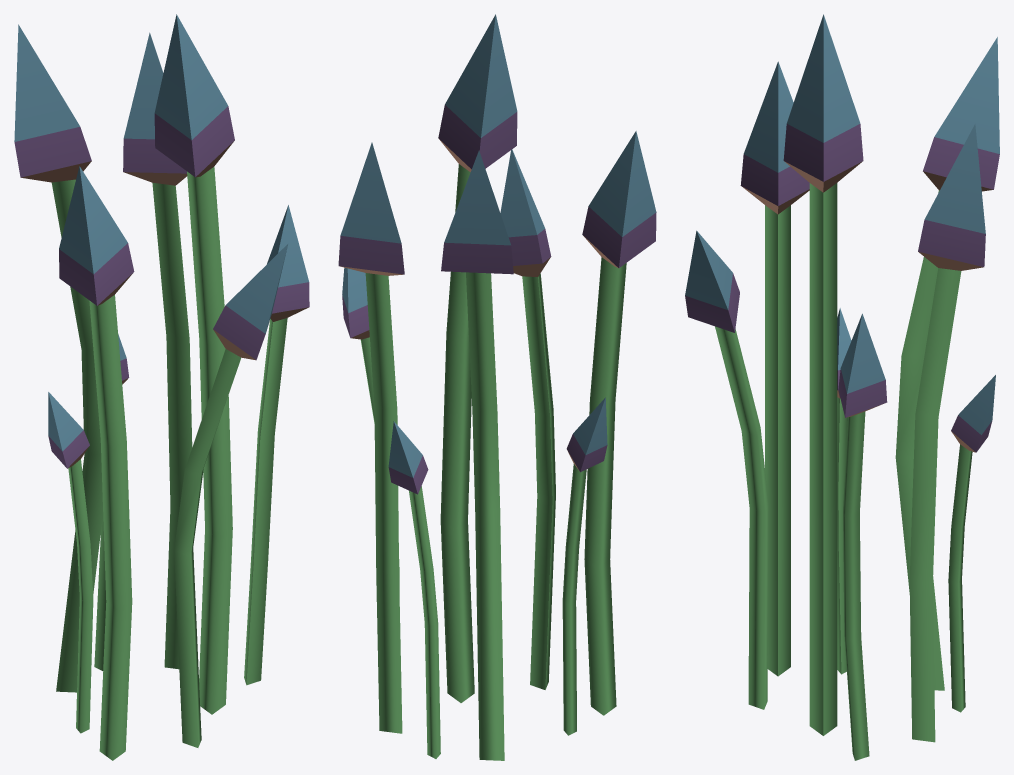
Rendered from Flowers_1.fbx.
3 renders of one model, left to right at view 1: azimuth 30°, elevation 25°; view 2: azimuth 150°, elevation 25°; view 3: azimuth 270°, elevation 25°, orthographic.
Parts seen in each view (by area): view 1: Flowers_1; view 2: Flowers_1; view 3: Flowers_1.
Part boxes in pixels (box(x1,y1,x2,y2)): Flowers_1: box(14, 14, 309, 760); Flowers_1: box(338, 14, 656, 760); Flowers_1: box(685, 14, 999, 760).
Bounding box in the file's own units: 43.68 × 110 × 44.8.
